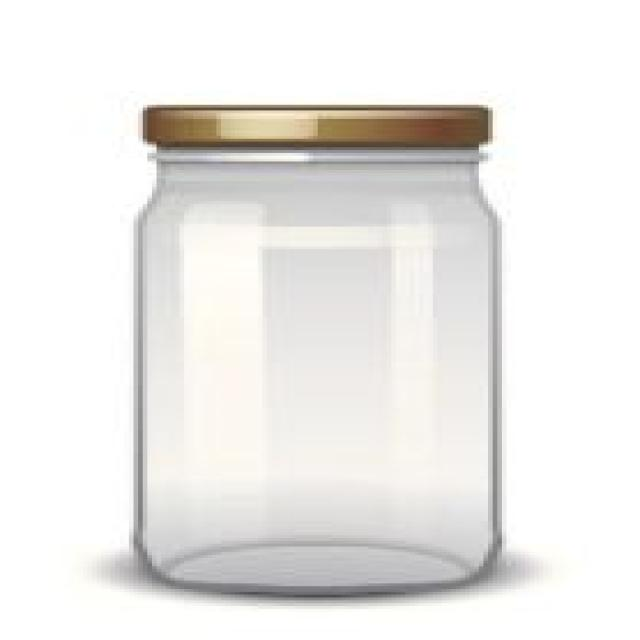electronic: (130, 107, 498, 591)
